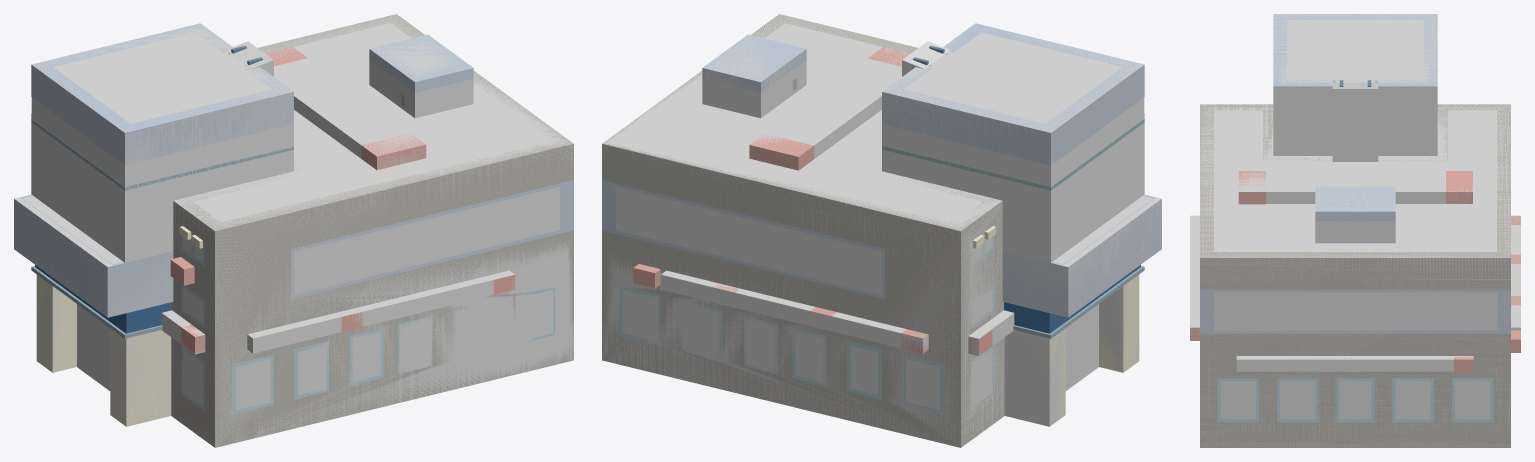
The model's file is Home13_B1_1_01.FBX.
The picture shows the model from 3 angles, left to right: view 1: azimuth 30°, elevation 25°; view 2: azimuth 150°, elevation 25°; view 3: azimuth 270°, elevation 25°; orthographic projection. The views are drawn at different scales.
Visible parts, largest first — view 1: Home13_B1_Damage_1_01, Home13_B1_Live_1_01; view 2: Home13_B1_Damage_1_01, Home13_B1_Live_1_01; view 3: Home13_B1_Damage_1_01, Home13_B1_Live_1_01.
Boxes of the visible parts, x1,y1,x2,y2 form: Home13_B1_Damage_1_01: [14, 14, 573, 447]; Home13_B1_Live_1_01: [14, 14, 573, 447]; Home13_B1_Damage_1_01: [602, 14, 1161, 447]; Home13_B1_Live_1_01: [602, 14, 1161, 447]; Home13_B1_Damage_1_01: [1190, 14, 1520, 447]; Home13_B1_Live_1_01: [1190, 14, 1520, 447].
Bounding box in the file's own units: 9.57 × 6.32 × 7.21.
